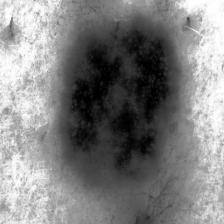Benign Marking or Mole: (62, 23, 180, 180)
